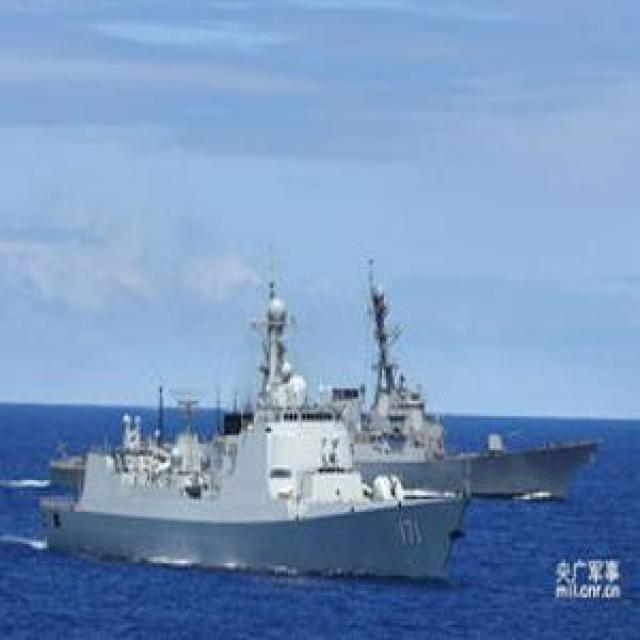sailboat: (31, 279, 459, 580), (312, 260, 606, 506)
